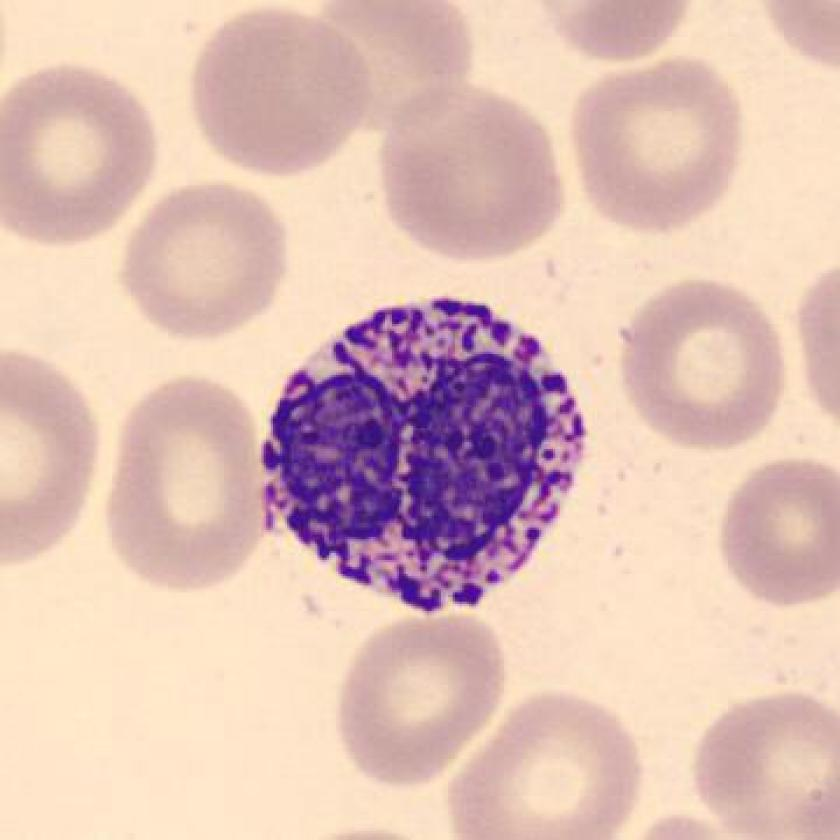basophil: (251, 288, 610, 626)
